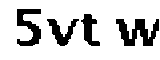5: (9, 6, 45, 53)
t: (80, 8, 107, 50)
v: (44, 15, 79, 48)
w: (113, 14, 160, 50)
